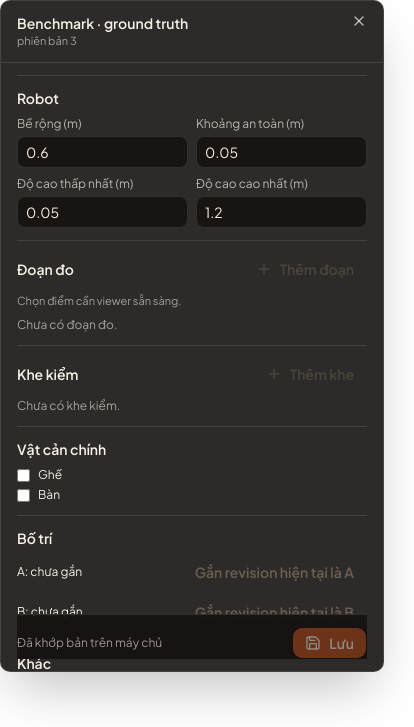
panel Benchmark › 409 giữ nguyên nhập liệu và đề nghị tải lại
Check: the button "Lưu" is shown, box 292,627 -> 367,659
Replace the text in the number field labelled "Bề rộng (m)" with "0.8" at (102, 152), box 17,136 -> 188,168
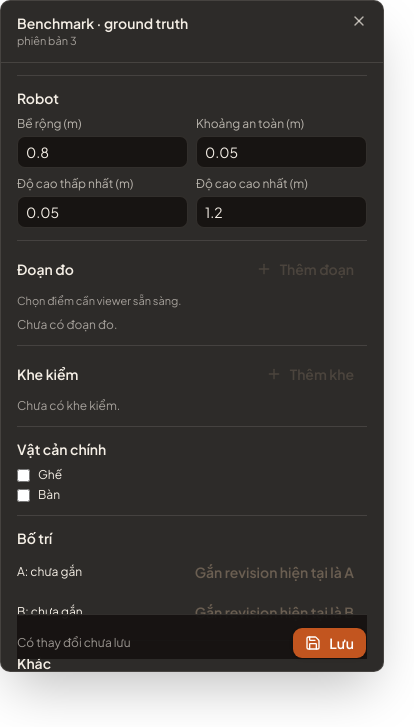
Click the button "Lưu" at (330, 643), box 292,627 -> 367,659
(page scrolled)
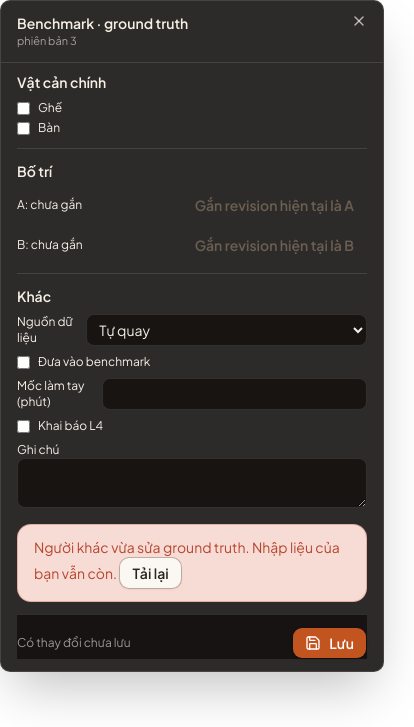
Check: the text "Người khác vừa sửa ground truth. Nhập liệu của bạn vẫn còn." is shown, box 34,538 -> 340,582
Click the button "Tải lại" at (151, 573), box 119,557 -> 182,589
(page scrolled)
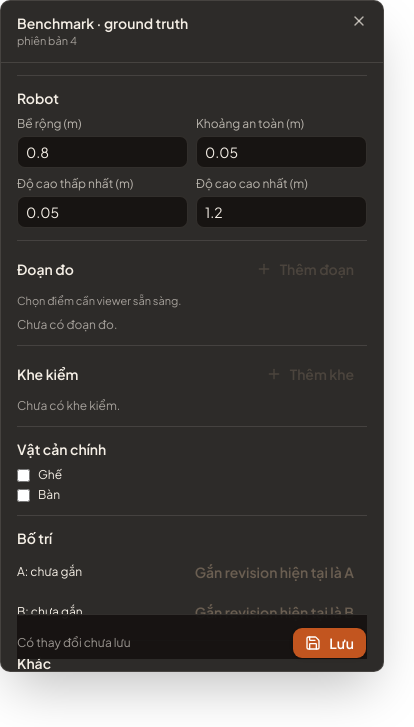
Check: the text "Người khác vừa sửa" is gone
